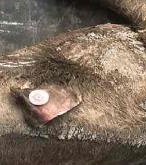text: (23, 79, 55, 115)
